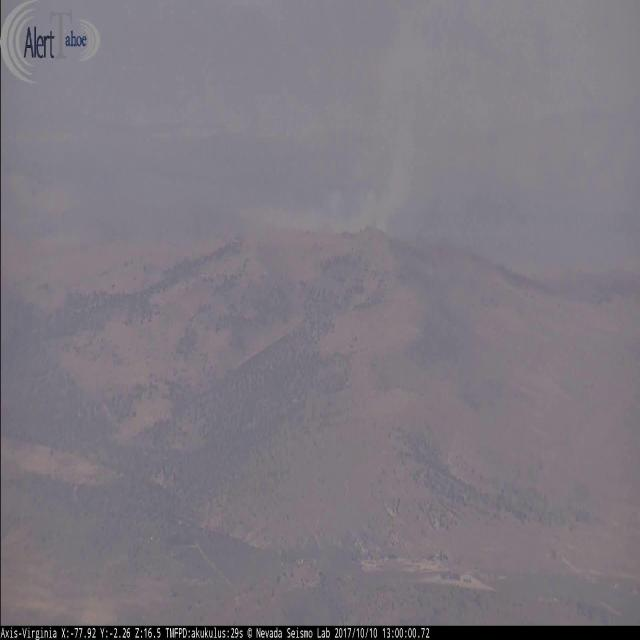smoke: (242, 0, 488, 235)
